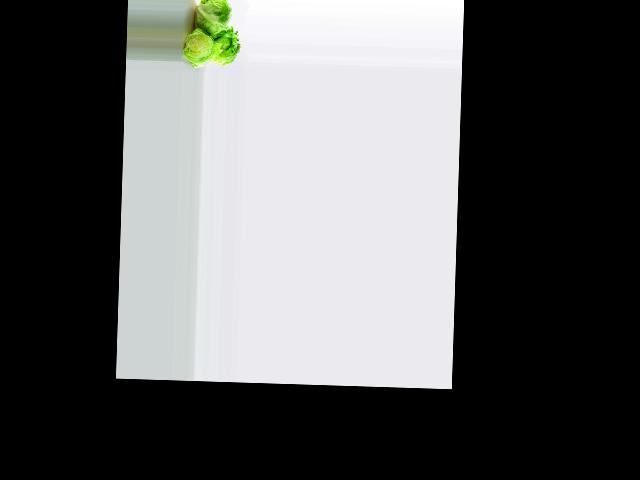lettuce: (209, 23, 244, 67)
